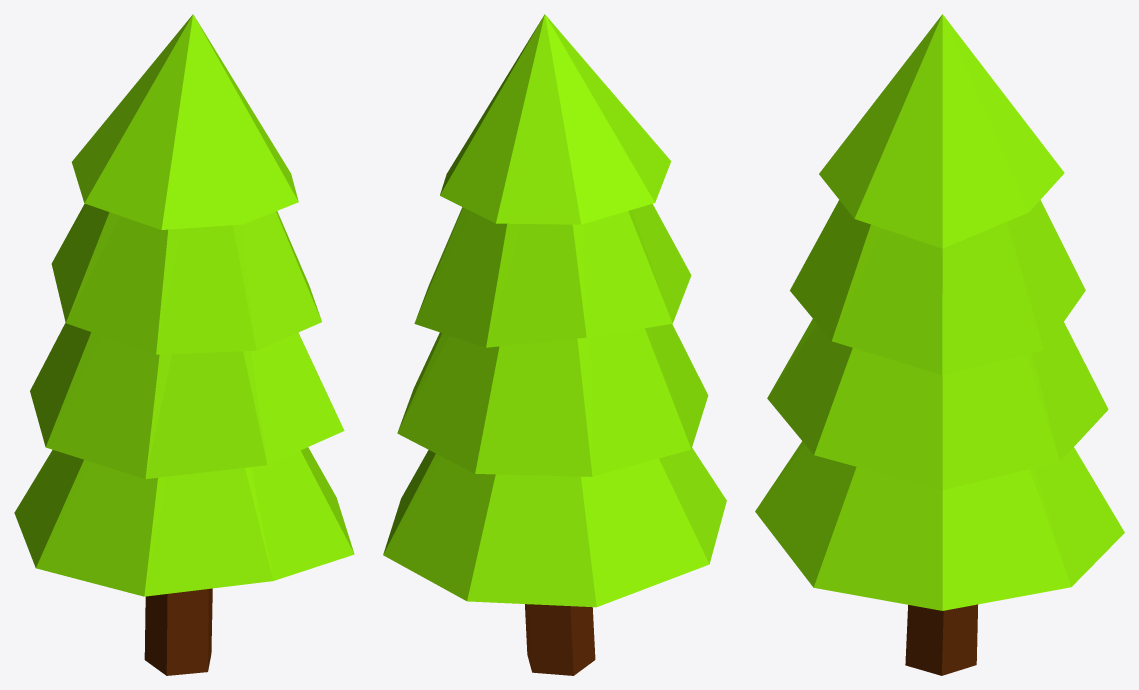
Rendered from 3D_Tree_001.FBX.
3 renders of one model, left to right at view 1: azimuth 30°, elevation 25°; view 2: azimuth 150°, elevation 25°; view 3: azimuth 270°, elevation 25°, orthographic.
Visible parts, largest first — view 1: Leaves, Trunk; view 2: Leaves, Trunk; view 3: Leaves, Trunk.
Part boxes in pixels (<box>): Leaves: <box>14,14,354,596</box>; Trunk: <box>144,588,212,675</box>; Leaves: <box>383,14,726,607</box>; Trunk: <box>525,604,595,675</box>; Leaves: <box>755,14,1124,610</box>; Trunk: <box>905,604,978,675</box>.
Bounding box in the file's own units: 102 × 207 × 106.
